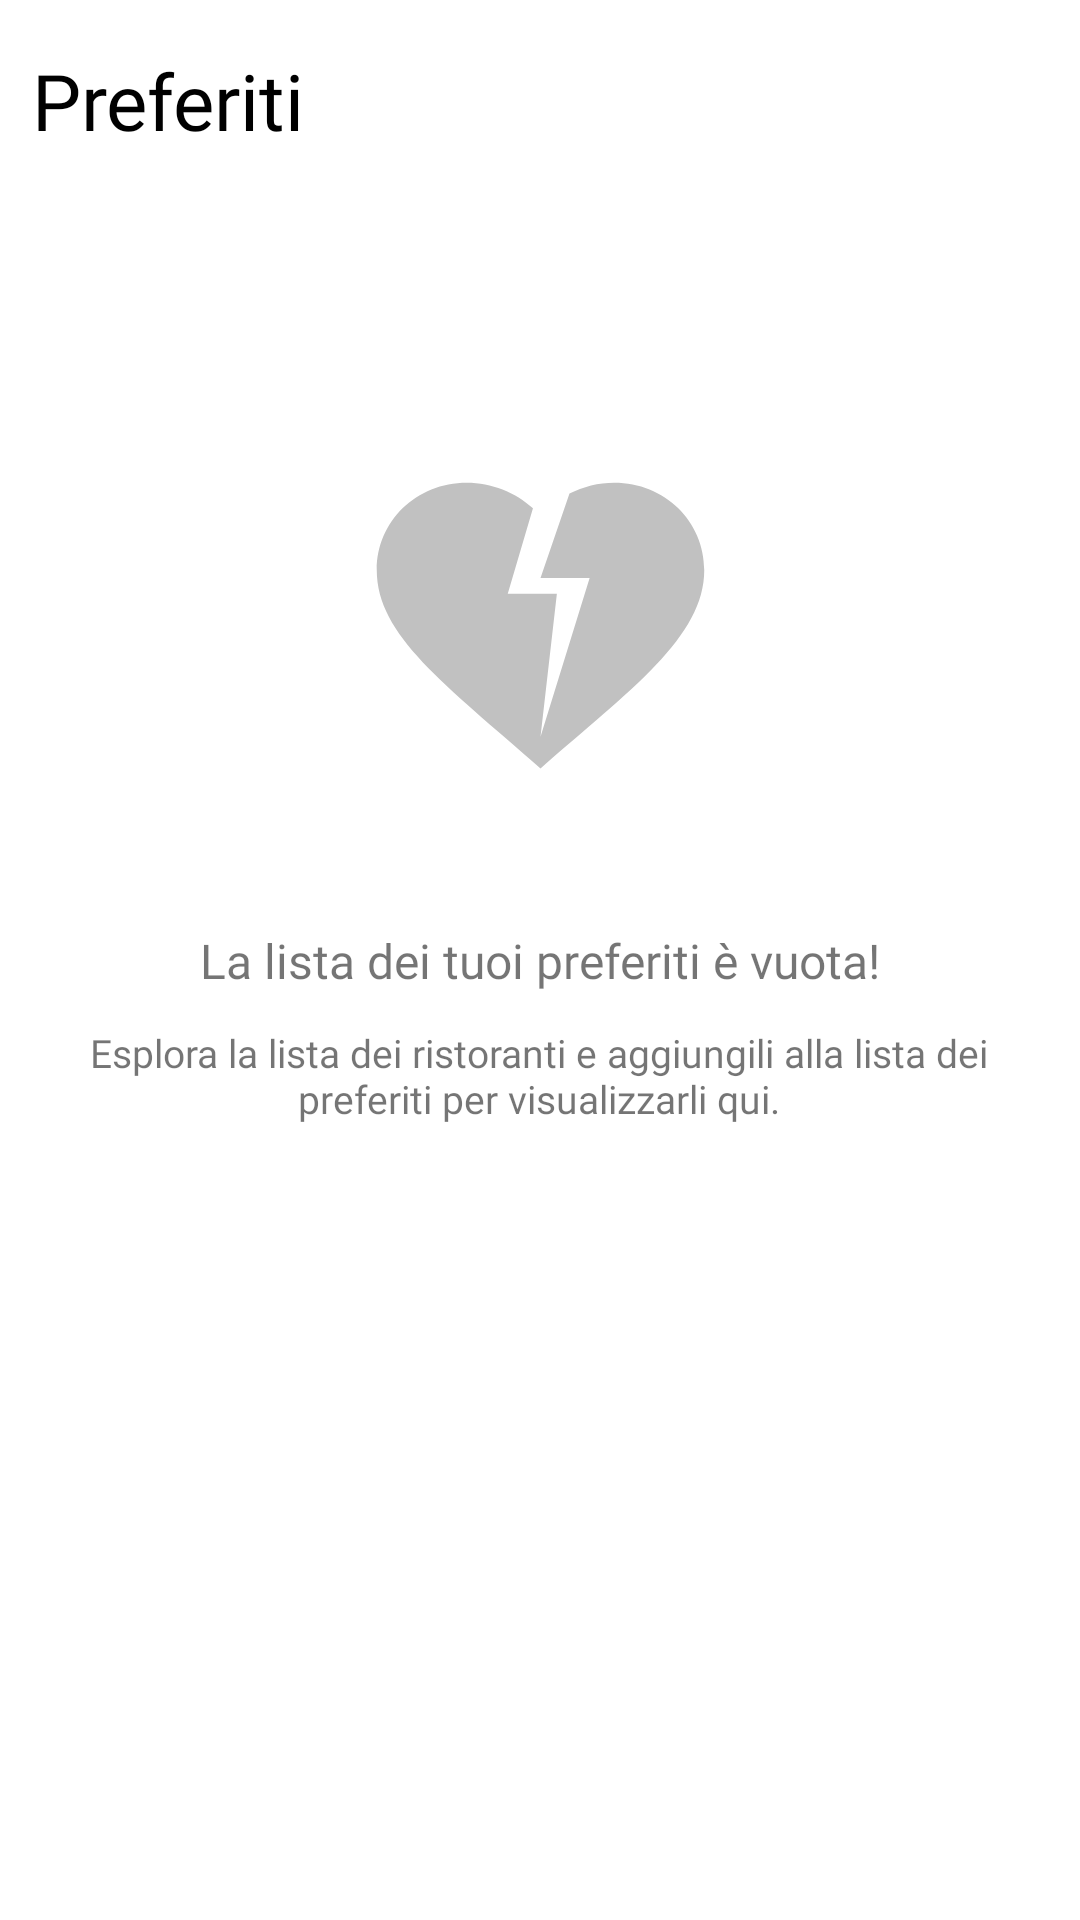

Icon click points for this 1080×1920 phone screenshot, format point (x, y):
heart broken: point (540, 625)
